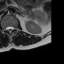CCS_normal: (8, 23, 11, 36)
LFS_normal: (13, 23, 16, 32)
LLS_normal: (11, 23, 13, 33)
RFS_normal: (3, 25, 5, 33)
RLS_normal: (5, 24, 8, 33)
